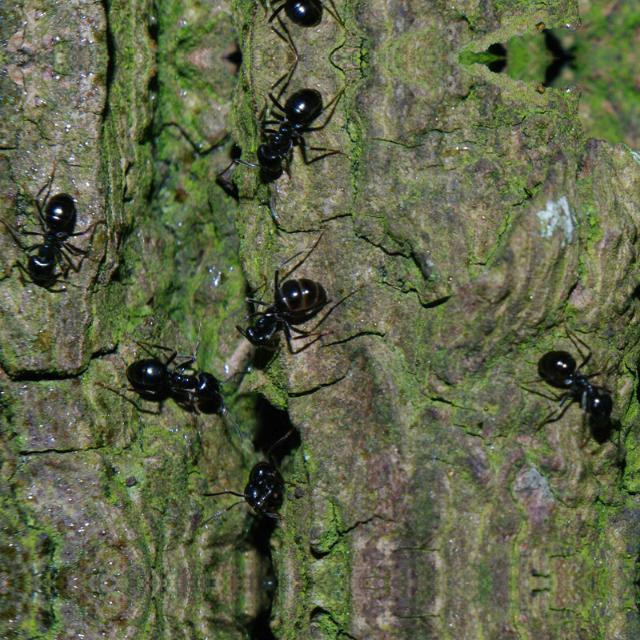Lasius: (233, 61, 357, 199), (6, 162, 110, 314), (224, 259, 350, 375), (112, 332, 242, 430), (233, 0, 357, 52)
